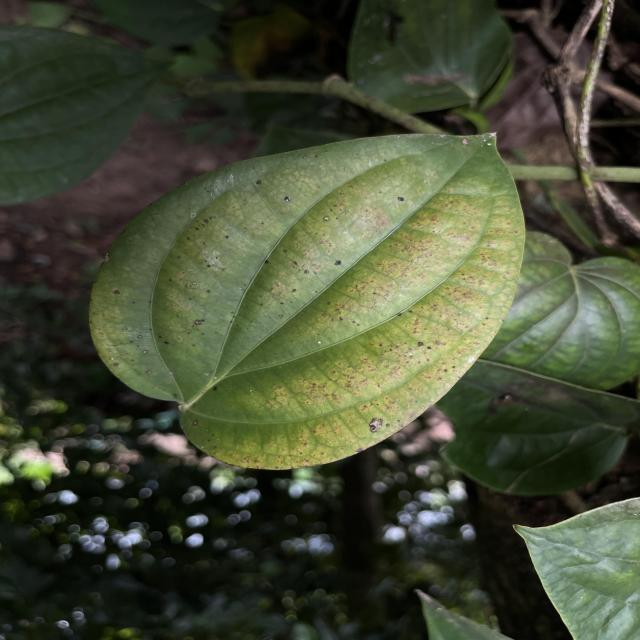Piper nigrum: (84, 130, 528, 472)
